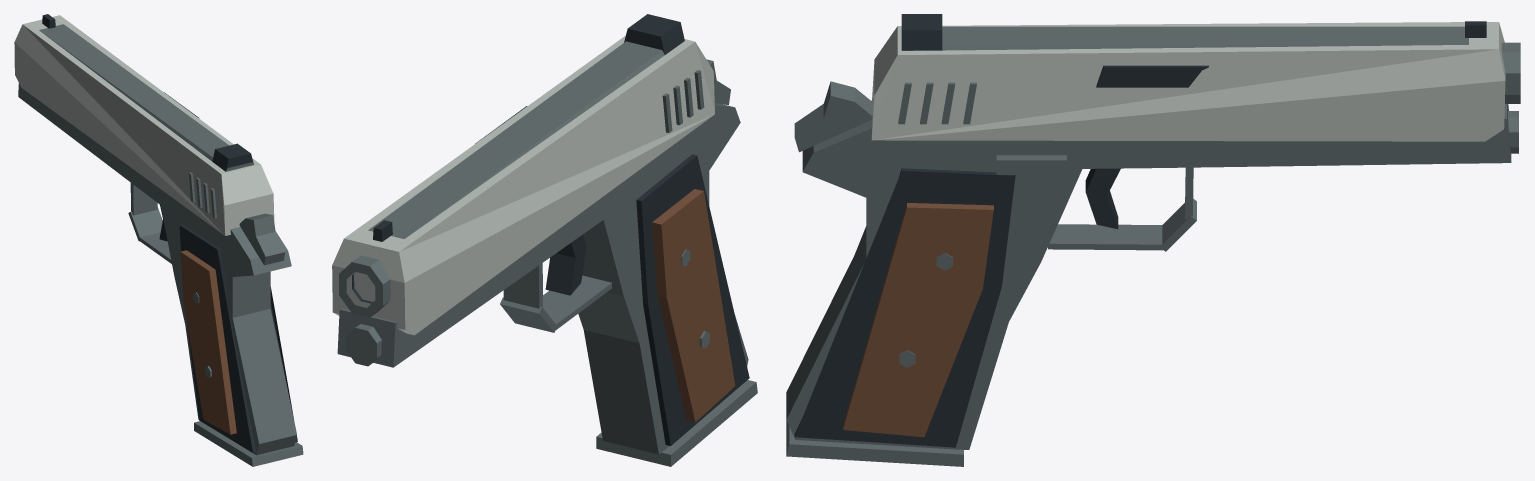
3 views of the same model, side by side, from view 1: azimuth 30°, elevation 25°; view 2: azimuth 150°, elevation 25°; view 3: azimuth 270°, elevation 25° (orthographic). The views are drawn at different scales.
Parts seen in each view (by area): view 1: Classic_slide_1, Frame_0, Wood_grip_panel_8, Slide_top_2, Grip_frame_7, Hammer_23, Magazine_floor_31, Rear_sight_33, Trigger_guard_1_25, Trigger_guard_0_24, Trigger_guard_2_26; view 2: Classic_slide_1, Frame_0, Wood_grip_panel_8, Slide_top_2, Grip_frame_7, Magazine_floor_31, Trigger_guard_2_26, Muzzle_3, Trigger_30, Rear_sight_33, Recoil_plug_6, Trigger_guard_0_24 (+1 smaller); view 3: Classic_slide_1, Frame_0, Wood_grip_panel_15, Grip_frame_7, Slide_top_2, Magazine_floor_31, Hammer_23, Trigger_guard_2_26, Ejection_port_32, Trigger_30, Rear_sight_33, Slide_stop_35 (+2 smaller).
Boxes of the visible parts, bbox=[...] form: Classic_slide_1: bbox=[14, 15, 274, 235]; Frame_0: bbox=[18, 83, 296, 455]; Wood_grip_panel_8: bbox=[180, 250, 236, 434]; Slide_top_2: bbox=[39, 24, 253, 171]; Grip_frame_7: bbox=[179, 224, 297, 452]; Hammer_23: bbox=[239, 213, 285, 265]; Magazine_floor_31: bbox=[194, 421, 303, 466]; Rear_sight_33: bbox=[212, 143, 253, 171]; Trigger_guard_1_25: bbox=[128, 207, 162, 241]; Trigger_guard_0_24: bbox=[130, 183, 157, 215]; Trigger_guard_2_26: bbox=[138, 232, 171, 263]; Classic_slide_1: bbox=[332, 35, 714, 335]; Frame_0: bbox=[337, 103, 748, 454]; Wood_grip_panel_8: bbox=[652, 189, 735, 422]; Slide_top_2: bbox=[368, 41, 684, 238]; Grip_frame_7: bbox=[636, 154, 749, 445]; Magazine_floor_31: bbox=[596, 380, 757, 466]; Trigger_guard_2_26: bbox=[543, 275, 611, 331]; Muzzle_3: bbox=[339, 255, 390, 317]; Trigger_30: bbox=[545, 234, 586, 295]; Rear_sight_33: bbox=[624, 14, 684, 54]; Recoil_plug_6: bbox=[346, 324, 381, 366]; Trigger_guard_0_24: bbox=[503, 263, 542, 308]; Classic_slide_1: bbox=[871, 22, 1505, 141]; Frame_0: bbox=[786, 100, 1511, 449]; Wood_grip_panel_15: bbox=[843, 203, 993, 437]; Grip_frame_7: bbox=[794, 168, 1015, 447]; Slide_top_2: bbox=[902, 26, 1468, 50]; Magazine_floor_31: bbox=[786, 420, 963, 466]; Hammer_23: bbox=[794, 81, 872, 152]; Trigger_guard_2_26: bbox=[1048, 224, 1163, 250]; Ejection_port_32: bbox=[1096, 65, 1208, 87]; Trigger_30: bbox=[1085, 168, 1120, 229]; Rear_sight_33: bbox=[901, 14, 942, 50]; Slide_stop_35: bbox=[996, 155, 1066, 174].
Size of the model in its own units: 0.0397 by 0.1733 by 0.2705.
